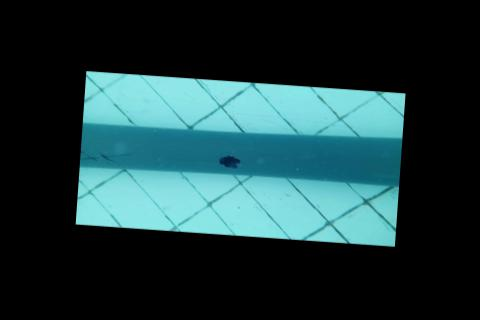kebocoran: (217, 153, 242, 169)
keretakan: (80, 150, 131, 165)
